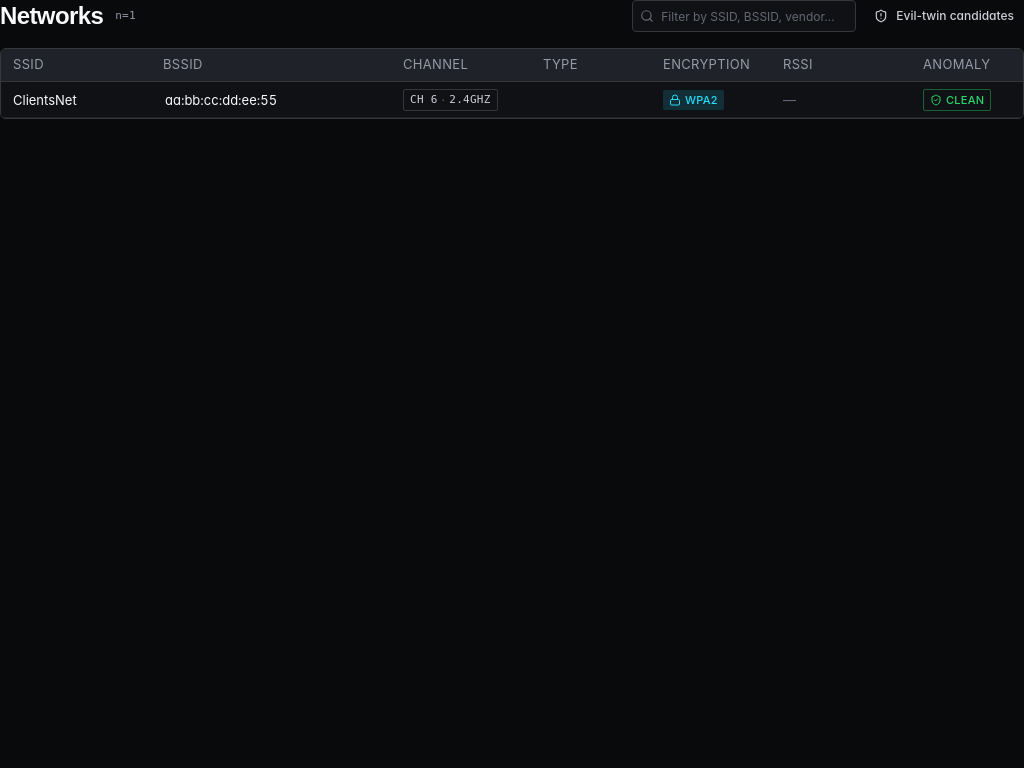
Test case: NetworksView › renders associated clients in the AP detail drawer
Step 1. Click the text "ClientsNet" → (45, 100), box [13,90,77,110]
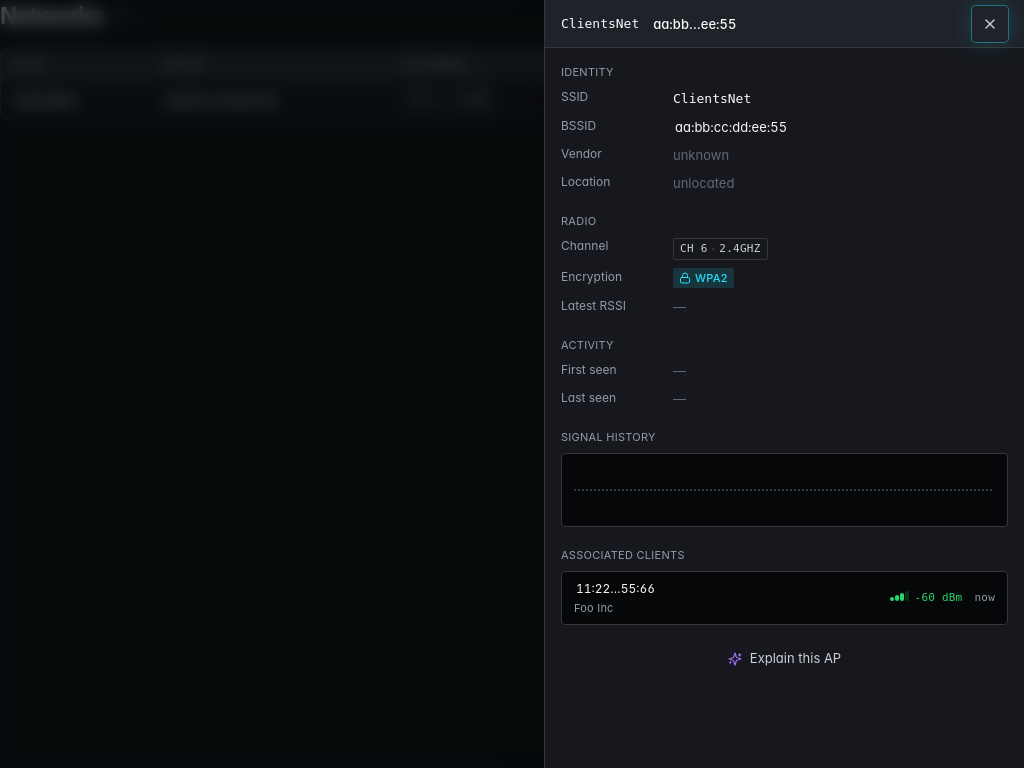
Expected: the list with test id "ap-associated-clients" is shown, [561,571,1008,625]
Expected: the list with test id "ap-associated-clients" shows "11:22", [574,580,878,598]
Expected: the list with test id "ap-associated-clients" shows "55:66", [574,580,878,598]
